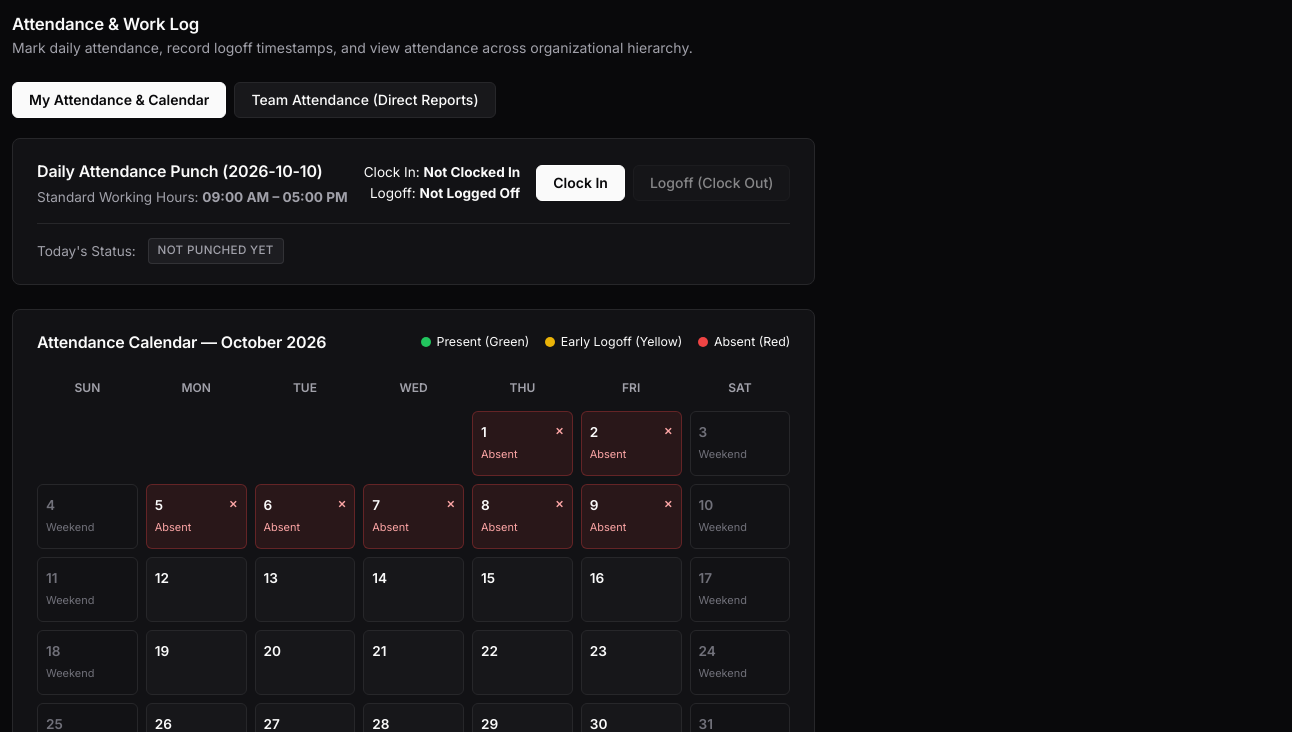
Attendance Module Component › MANAGER sees Team Attendance tab, Date Selector, Filter controls, and NOT MARKED YET status
Click the button with test id "tab-team-attendance": (365, 100) [234, 82, 496, 118]
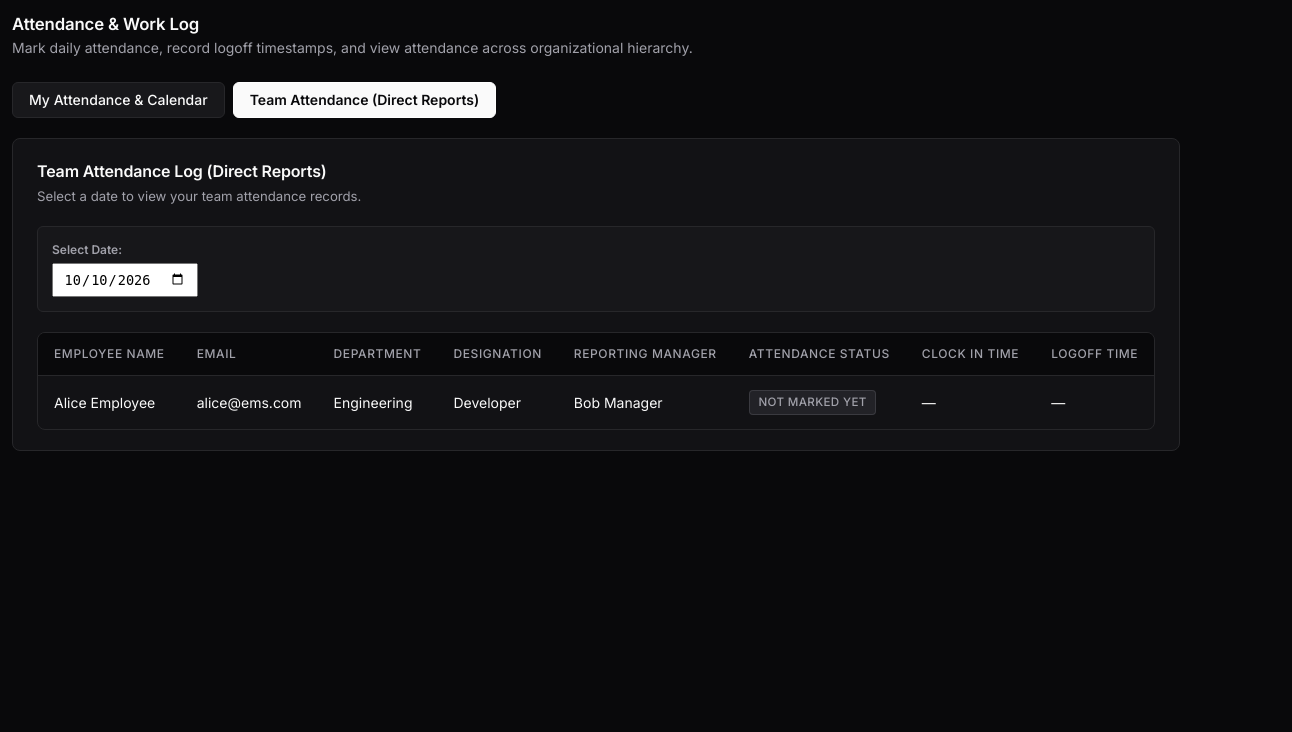
Check: the element with test id "hierarchy-attendance-card" is shown, box [12, 138, 1180, 452]
Check: the element with test id "attendance-filter-bar" is shown, box [37, 226, 1155, 312]
Check: the date field with test id "date-picker" is shown, box [52, 264, 198, 297]
